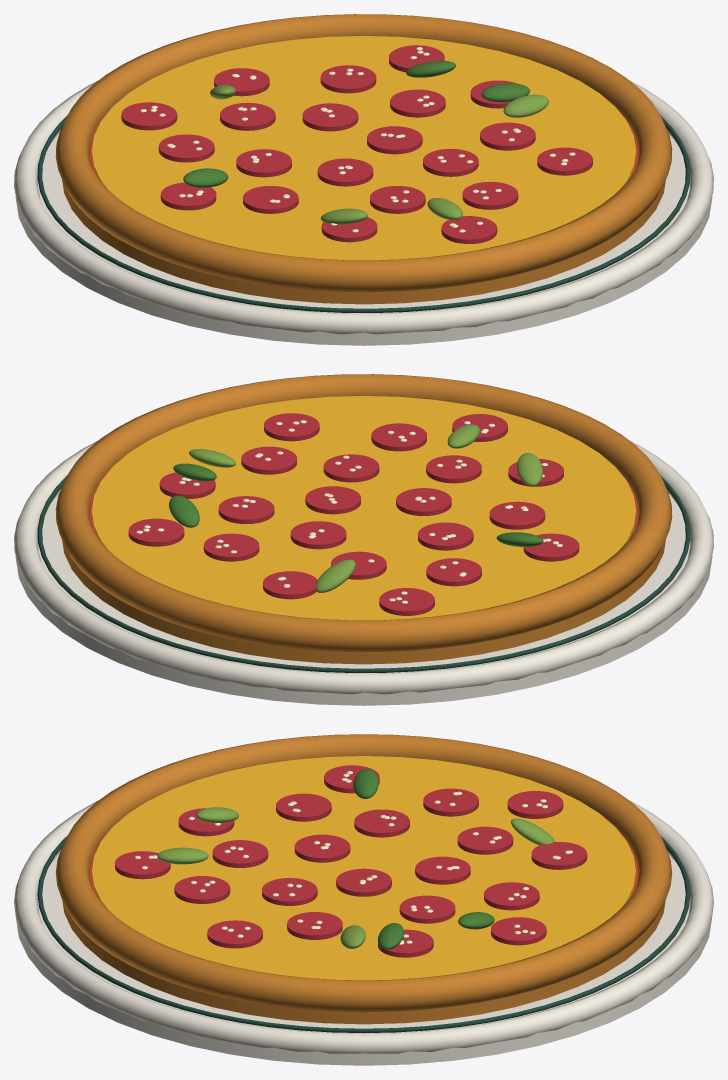
File: pizza-regular.glb
3 views of the same model, one above another, from view 1: azimuth 30°, elevation 25°; view 2: azimuth 150°, elevation 25°; view 3: azimuth 270°, elevation 25° (orthographic).
Visible parts, largest first — view 1: Morsel original pizza regular, leaf (×6); view 2: Morsel original pizza regular, leaf (×7); view 3: Morsel original pizza regular, leaf (×5).
Boxes of the visible parts, box(x1,y1,x2,y2) form: Morsel original pizza regular: box(14, 14, 713, 345); leaf (×6): box(183, 60, 548, 224); Morsel original pizza regular: box(14, 374, 713, 705); leaf (×7): box(169, 424, 543, 592); Morsel original pizza regular: box(14, 734, 713, 1065); leaf (×5): box(157, 769, 554, 949).
Bounding box in the file's own units: 3.52 × 0.3824 × 3.52.
